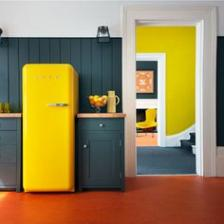yellow: (23, 64, 79, 192), (137, 26, 196, 136), (137, 109, 158, 130)
